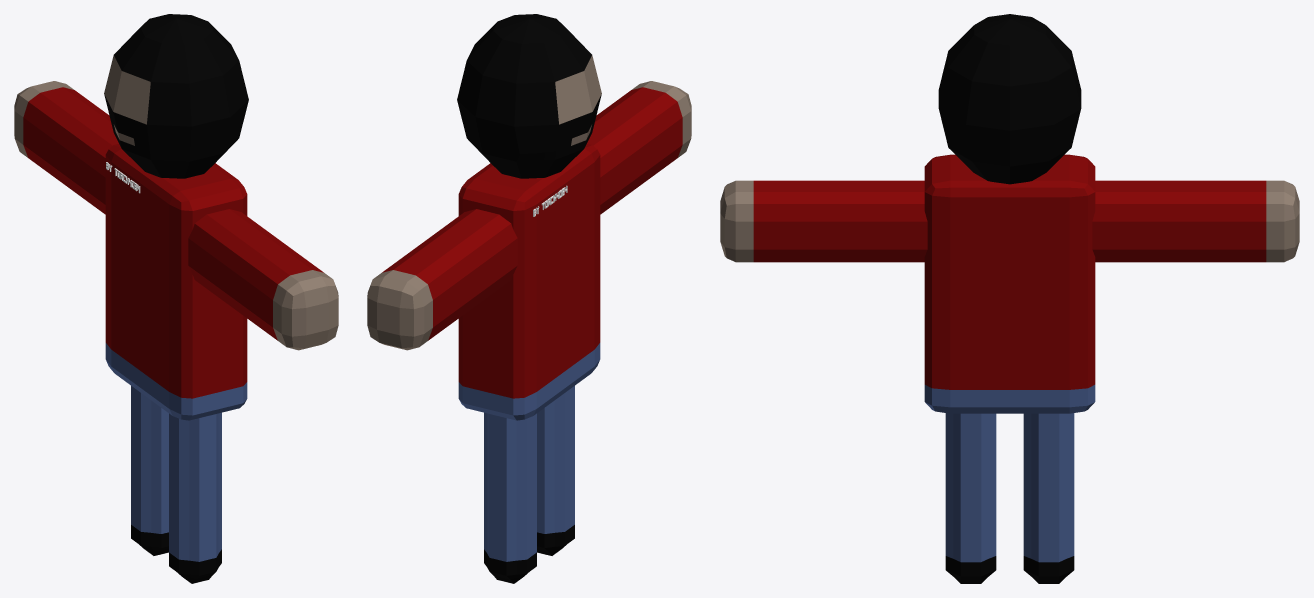
File: Friendly guy.fbx
3 renders of one model, left to right at view 1: azimuth 30°, elevation 25°; view 2: azimuth 150°, elevation 25°; view 3: azimuth 270°, elevation 25°, orthographic. The views are drawn at different scales.
Parts seen in each view (by area): view 1: polySurfaceShape3; view 2: polySurfaceShape3; view 3: polySurfaceShape3.
Boxes of the visible parts, x1=… form: polySurfaceShape3: x1=14, y1=14, x2=338, y2=583; polySurfaceShape3: x1=367, y1=14, x2=691, y2=583; polySurfaceShape3: x1=720, y1=14, x2=1299, y2=583.
Bounding box in the file's own units: 0.6371 × 2.63 × 2.47.
